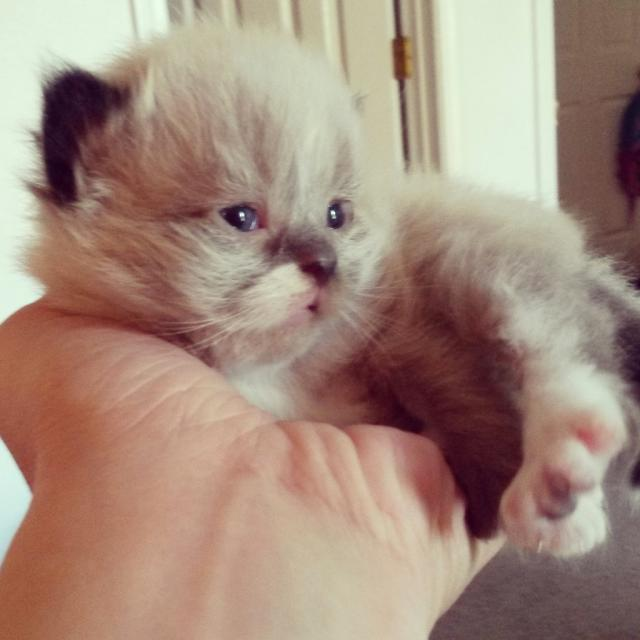Cat: (10, 34, 638, 565)
